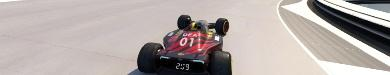Car: (136, 15, 232, 74)
Solid White and black: (276, 0, 389, 74)
